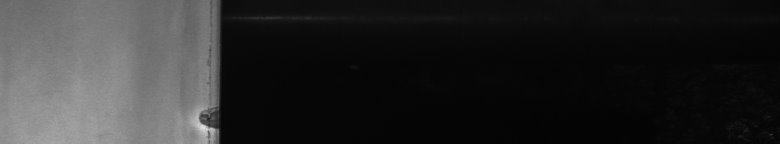hb: (190, 101, 208, 136)
